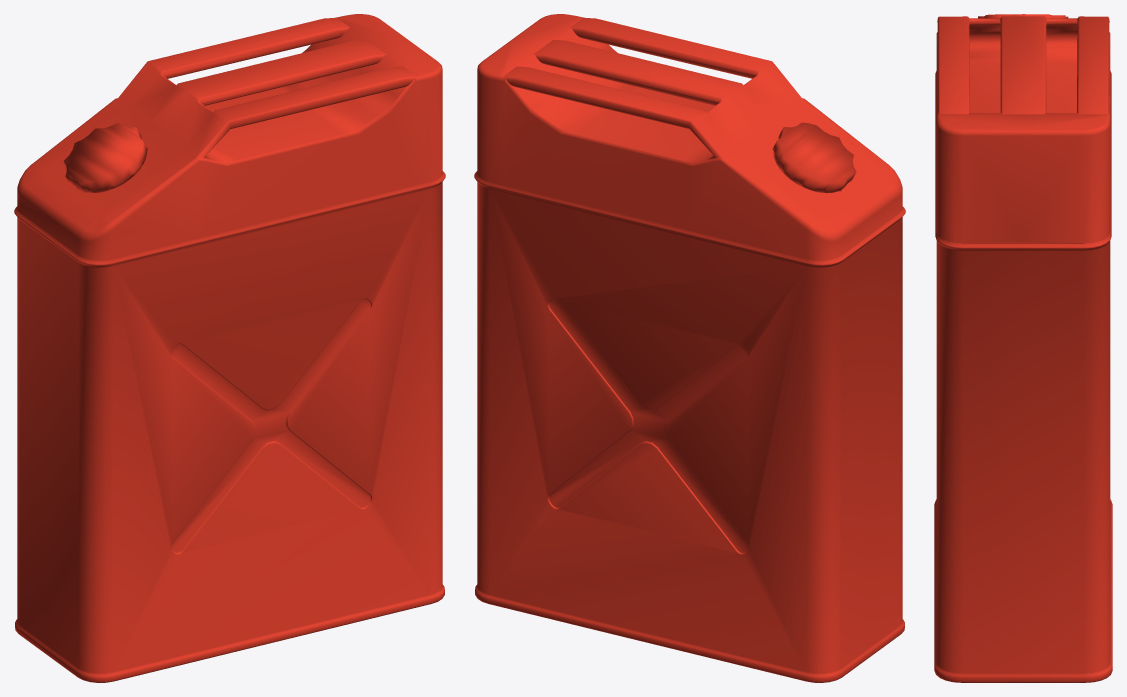
File: jerry_can.glb
The picture shows the model from 3 angles, left to right: view 1: azimuth 30°, elevation 25°; view 2: azimuth 150°, elevation 25°; view 3: azimuth 270°, elevation 25°; orthographic projection. The views are drawn at different scales.
Parts seen in each view (by area): view 1: Jerrycan; view 2: Jerrycan; view 3: Jerrycan.
Part boxes in pixels (x1,y1,x2,y2): Jerrycan: (14,14,445,682); Jerrycan: (474,14,905,682); Jerrycan: (934,14,1112,682).
Bounding box in the file's own units: 24.57 × 34.08 × 9.95.
